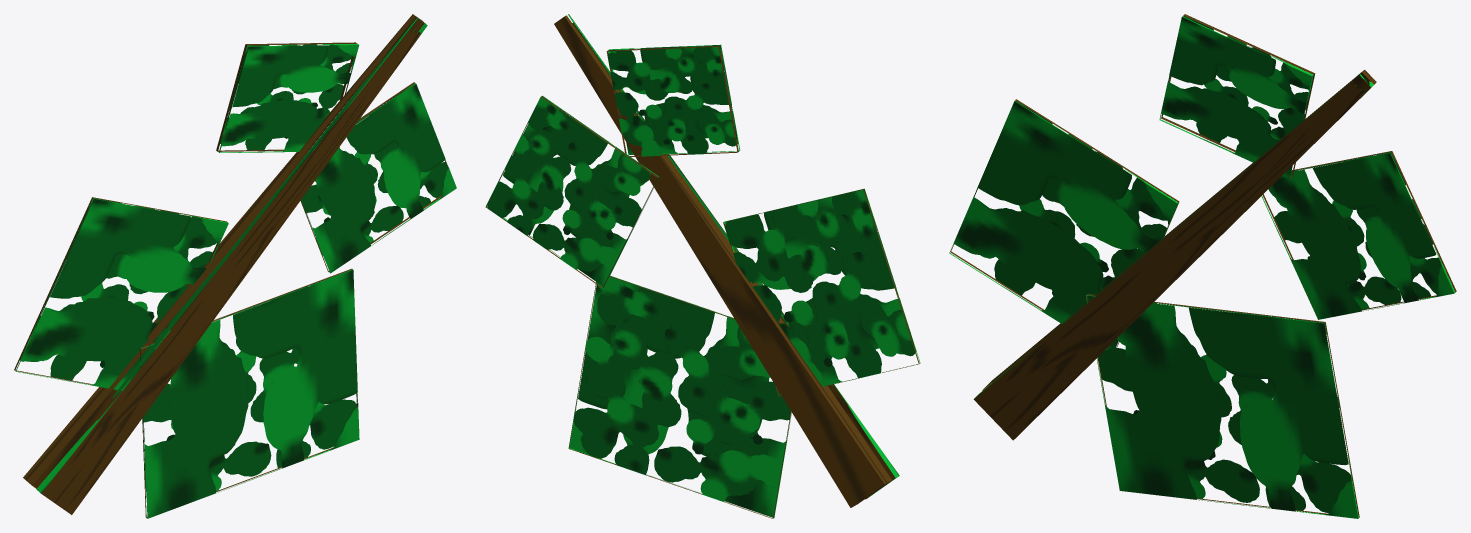
Rendered from ObjectFirTreeNeedles4.obj.
3 views of the same model, side by side, from view 1: azimuth 30°, elevation 25°; view 2: azimuth 150°, elevation 25°; view 3: azimuth 330°, elevation 25° (orthographic). The views are drawn at different scales.
Visible parts, largest first — view 1: Cube.002, Cube, Cube.004, Cube.003, Cube.001; view 2: Cube.002, Cube.004, Cube, Cube.003, Cube.001; view 3: Cube.002, Cube.004, Cube, Cube.003, Cube.001.
Boxes of the visible parts, x1=… form: Cube.002: x1=139, y1=268, x2=359, y2=518; Cube: x1=23, y1=14, x2=427, y2=514; Cube.004: x1=14, y1=197, x2=228, y2=390; Cube.003: x1=300, y1=82, x2=456, y2=273; Cube.001: x1=216, y1=42, x2=359, y2=152; Cube.002: x1=568, y1=275, x2=791, y2=518; Cube.004: x1=723, y1=188, x2=920, y2=396; Cube: x1=554, y1=14, x2=899, y2=507; Cube.003: x1=485, y1=95, x2=659, y2=288; Cube.001: x1=606, y1=44, x2=740, y2=156; Cube.002: x1=1086, y1=294, x2=1359, y2=518; Cube.004: x1=949, y1=99, x2=1179, y2=350; Cube: x1=973, y1=69, x2=1376, y2=440; Cube.003: x1=1261, y1=151, x2=1456, y2=319; Cube.001: x1=1159, y1=14, x2=1315, y2=178.
Size of the model in its own units: 6.88 by 6.83 by 0.8478.
